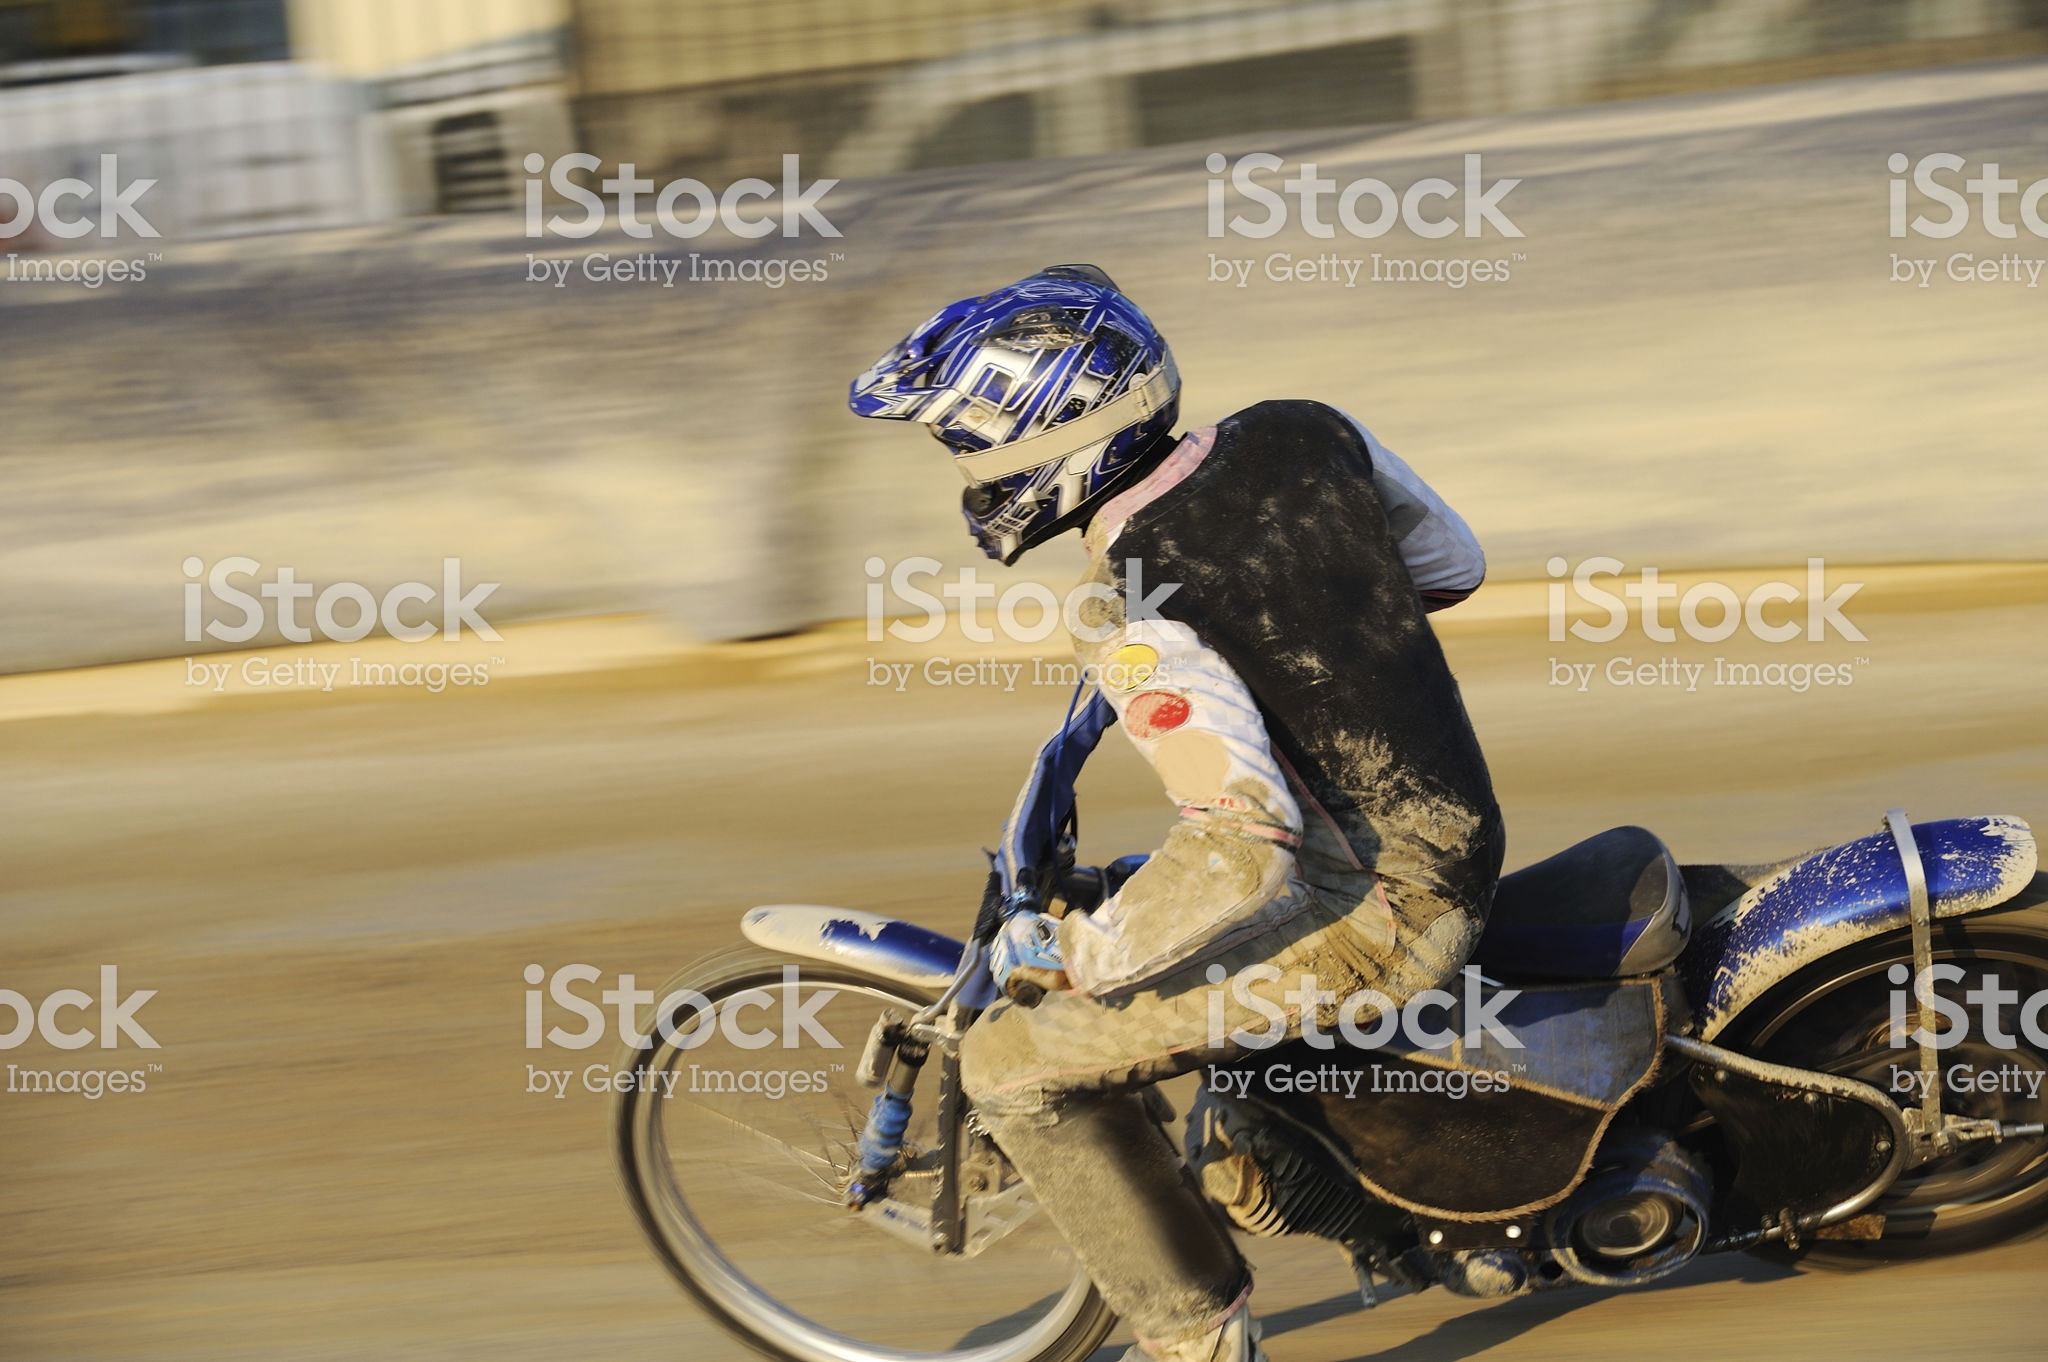helmet: (846, 271, 1218, 517)
